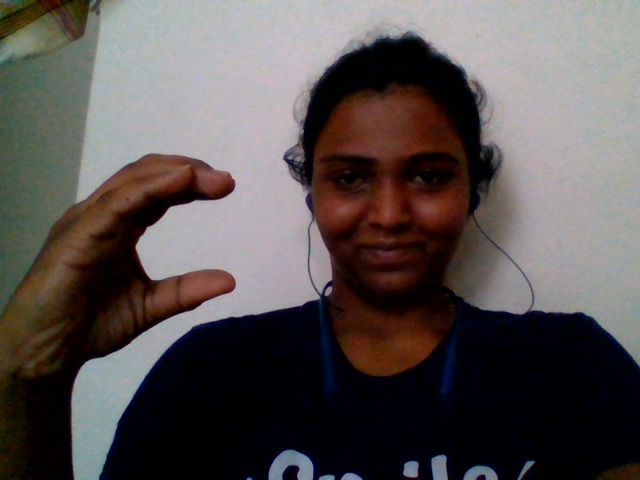No: (26, 103, 280, 405)
